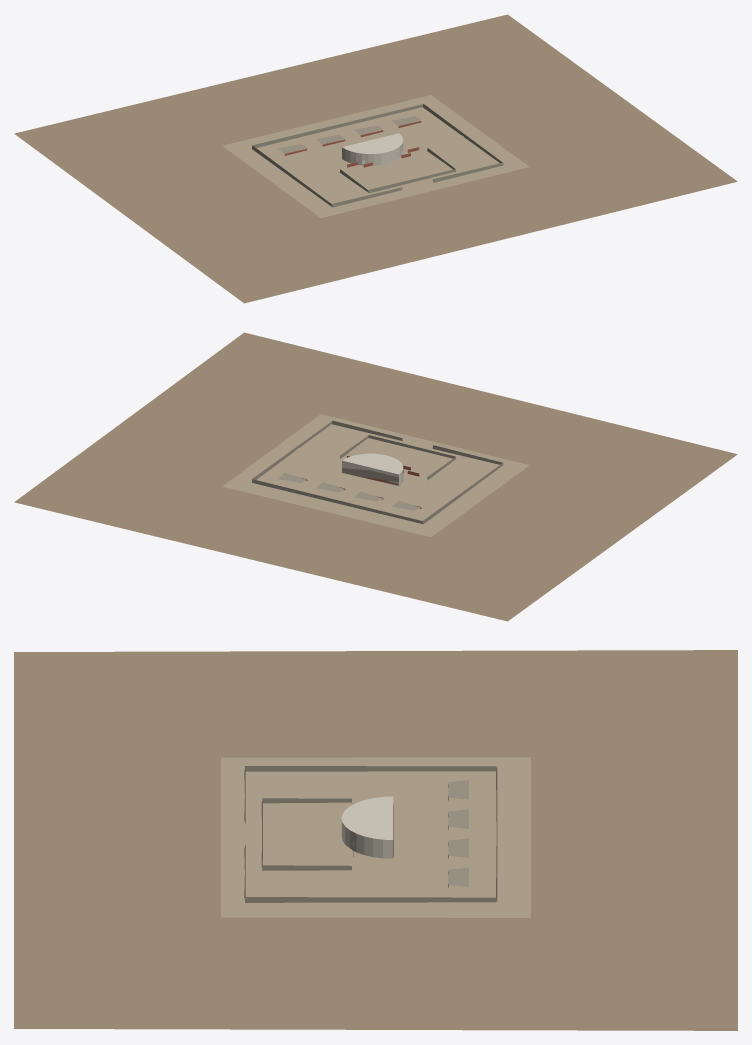
The model's file is wari_site_lod1.glb.
The picture shows the model from 3 angles, top to bottom: view 1: azimuth 30°, elevation 25°; view 2: azimuth 150°, elevation 25°; view 3: azimuth 270°, elevation 25°; orthographic projection. The views are drawn at different scales.
Visible parts, largest first — view 1: Wari_LOD1_Terrain, Wari_LOD1_Apron, Wari_Plaza, Wari_D_Temple, Wari_Perimeter_N; view 2: Wari_LOD1_Terrain, Wari_LOD1_Apron, Wari_Plaza, Wari_D_Temple, Wari_Perimeter_N; view 3: Wari_LOD1_Terrain, Wari_LOD1_Apron, Wari_Plaza, Wari_D_Temple, Wari_Perimeter_E, Wari_Perimeter_W.
Boxes of the visible parts, x1,y1,x2,y2 form: Wari_LOD1_Terrain: (14,14,737,303); Wari_LOD1_Apron: (222,95,529,217); Wari_Plaza: (343,151,455,192); Wari_D_Temple: (342,133,403,165); Wari_Perimeter_N: (252,104,423,147); Wari_LOD1_Terrain: (14,332,737,621); Wari_LOD1_Apron: (222,414,529,536); Wari_Plaza: (340,438,455,479); Wari_D_Temple: (342,453,403,486); Wari_Perimeter_N: (252,479,423,523); Wari_LOD1_Terrain: (14,650,737,1030); Wari_LOD1_Apron: (221,757,530,917); Wari_Plaza: (262,802,351,865); Wari_D_Temple: (341,796,393,858); Wari_Perimeter_E: (245,897,496,902); Wari_Perimeter_W: (245,766,496,771).
Bounding box in the file's own units: 520 × 14.87 × 420.
